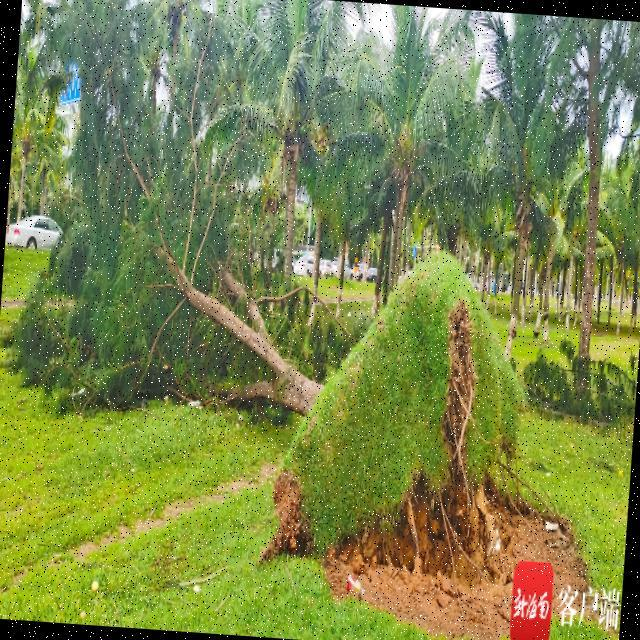fallen_object: (19, 23, 545, 586)
